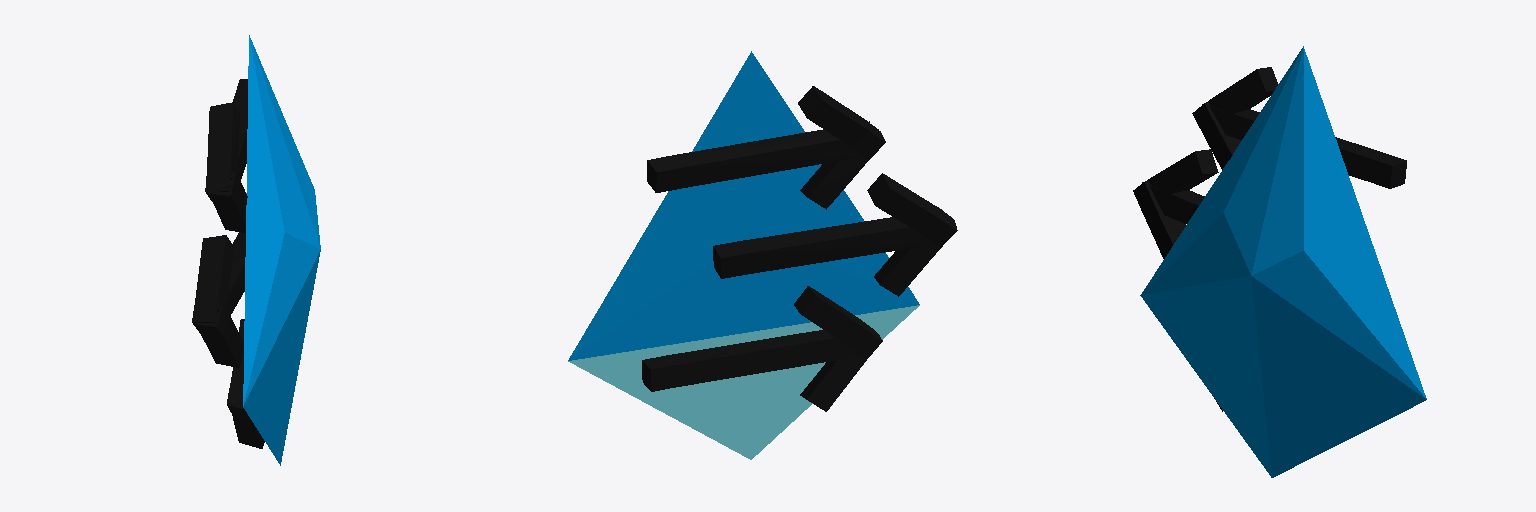
File: DowngradePush.obj
3 renders of one model, left to right at view 1: azimuth 30°, elevation 25°; view 2: azimuth 150°, elevation 25°; view 3: azimuth 270°, elevation 25°, orthographic.
Visible parts, largest first — view 1: group[number redacted], group[number redacted], group[number redacted], group[number redacted]; view 2: group[number redacted], group[number redacted], group[number redacted], group[number redacted]; view 3: group[number redacted], group[number redacted], group[number redacted].
Boxes of the visible parts, <box> form: group[number redacted]: <box>243,35,320,465</box>; group[number redacted]: <box>192,232,245,367</box>; group[number redacted]: <box>205,79,247,232</box>; group[number redacted]: <box>227,319,264,448</box>; group[number redacted]: <box>568,51,919,459</box>; group[number redacted]: <box>713,173,957,296</box>; group[number redacted]: <box>647,86,885,209</box>; group[number redacted]: <box>642,286,882,411</box>; group[number redacted]: <box>1140,46,1426,477</box>; group[number redacted]: <box>1192,67,1406,188</box>; group[number redacted]: <box>1133,149,1218,258</box>.
Size of the model in its own units: 0.3552 by 0.5684 by 0.3572.